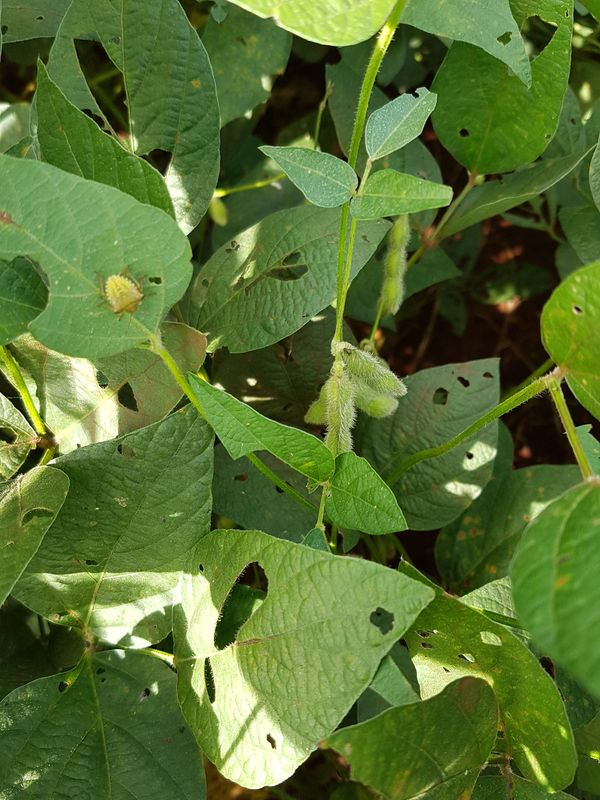Euschistus_heros_ninfa: (91, 262, 152, 322)
